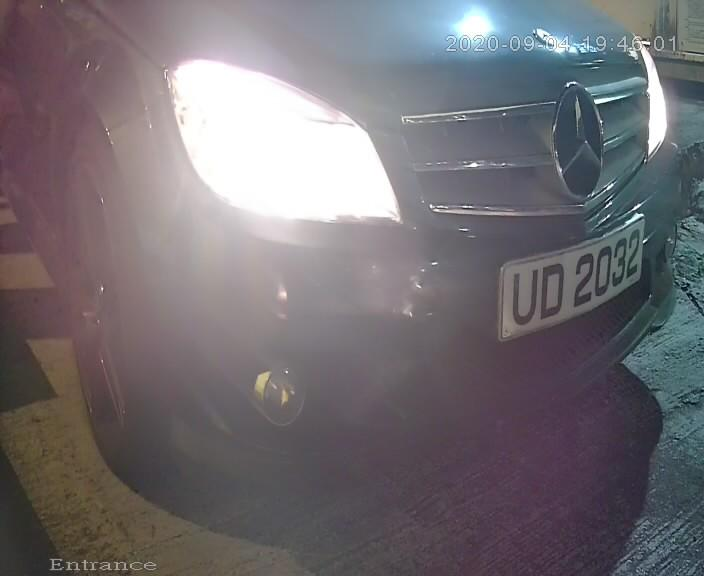License Plate: (490, 203, 655, 358)
